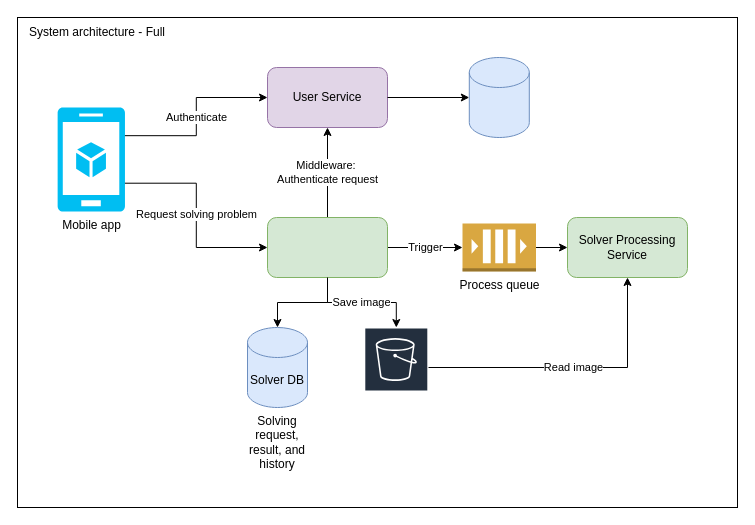
The diagram is 755 pixels wide and 525 high, and some of its shapes have lost their labels. The box of each missing label's shape, as (x1, y1, x2, y2) in pixels:
Amazon S3: (363, 326, 428, 408)
Solver Management Service: (266, 216, 388, 278)
User DB: (468, 56, 529, 138)
